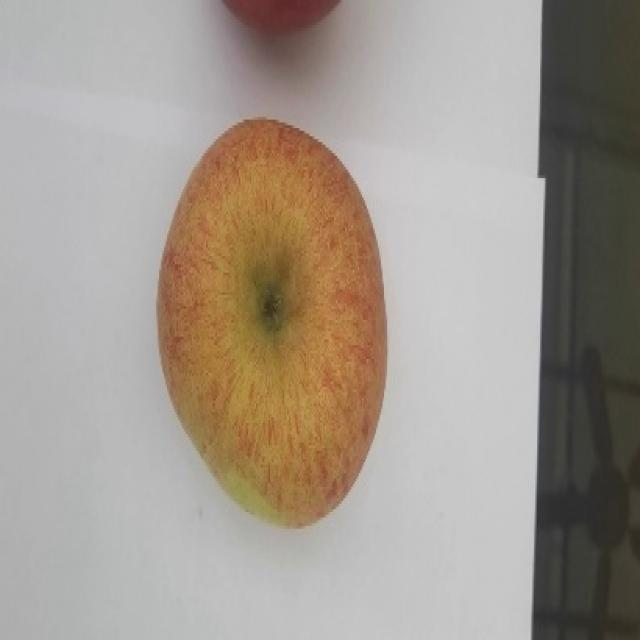Apple: (152, 111, 396, 534), (224, 0, 349, 33)
